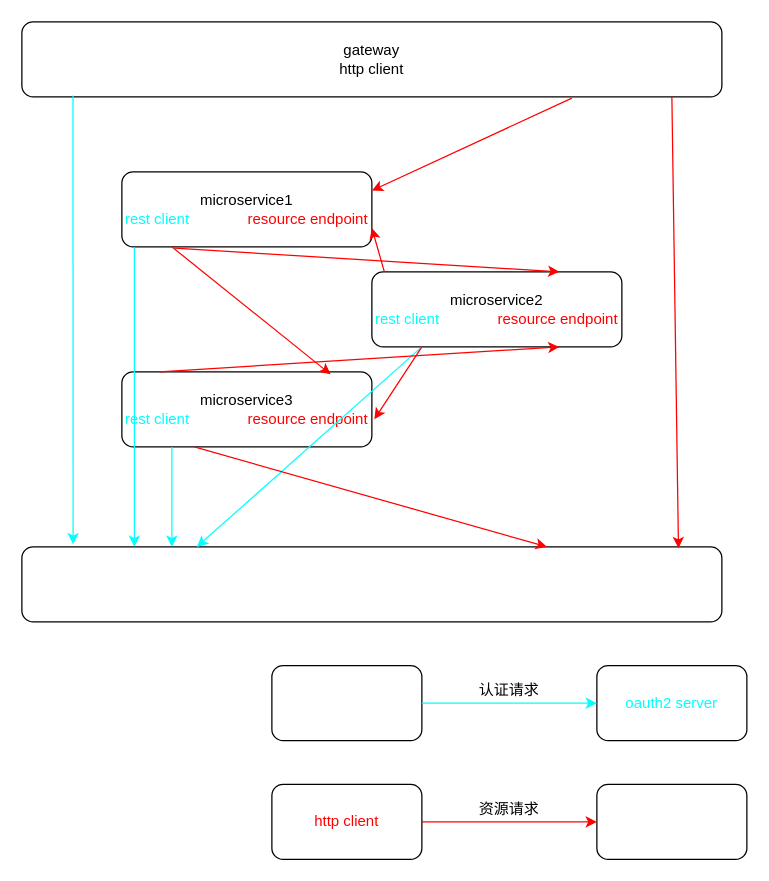
Some shapes in this 769 by 881 pixel diagram are drawn without their labels. Here are the shapes that lost their labels. From the top down, the centre of each, then its label:
pixel 371 584: uaa oauth2 endpoint user / account resource endpoint
pixel 346 702: oauth2 client
pixel 671 821: resource server
